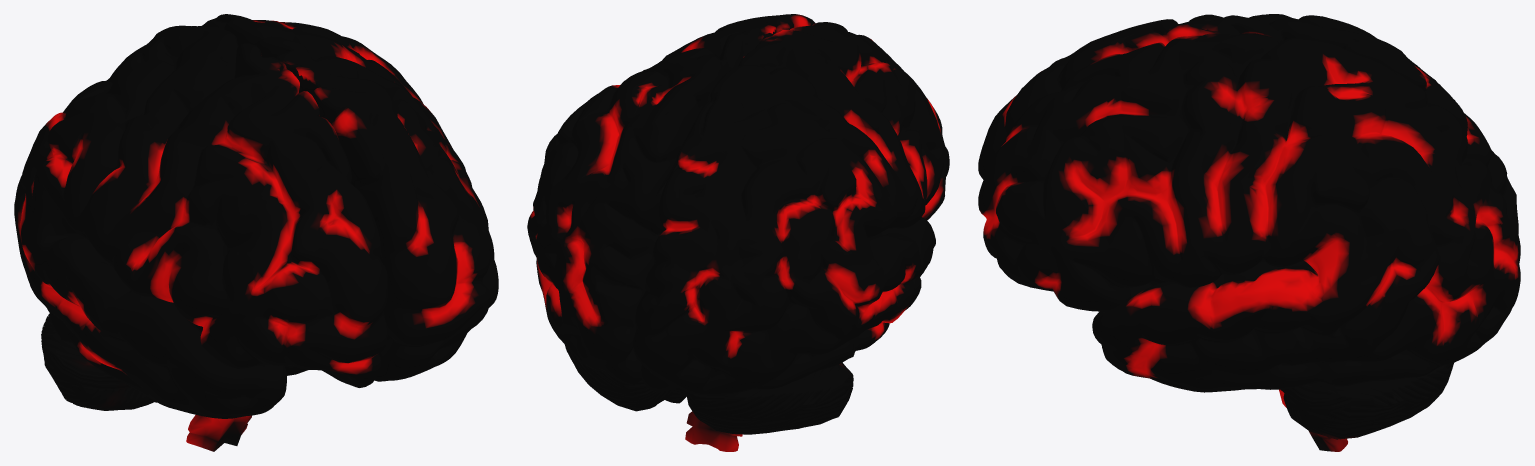
File: brain.glb
3 views of the same model, side by side, from view 1: azimuth 30°, elevation 25°; view 2: azimuth 150°, elevation 25°; view 3: azimuth 270°, elevation 25° (orthographic). The views are drawn at different scales.
Parts seen in each view (by area): view 1: Brain_Part_04_BRAIN_TEXTURE_blinn2_0; view 2: Brain_Part_04_BRAIN_TEXTURE_blinn2_0; view 3: Brain_Part_04_BRAIN_TEXTURE_blinn2_0.
Part boxes in pixels (x1,y1,x2,y2): Brain_Part_04_BRAIN_TEXTURE_blinn2_0: (14, 14, 498, 451); Brain_Part_04_BRAIN_TEXTURE_blinn2_0: (527, 14, 949, 451); Brain_Part_04_BRAIN_TEXTURE_blinn2_0: (978, 14, 1520, 451).
Bounding box in the file's own units: 1.06 × 1.12 × 1.32.
